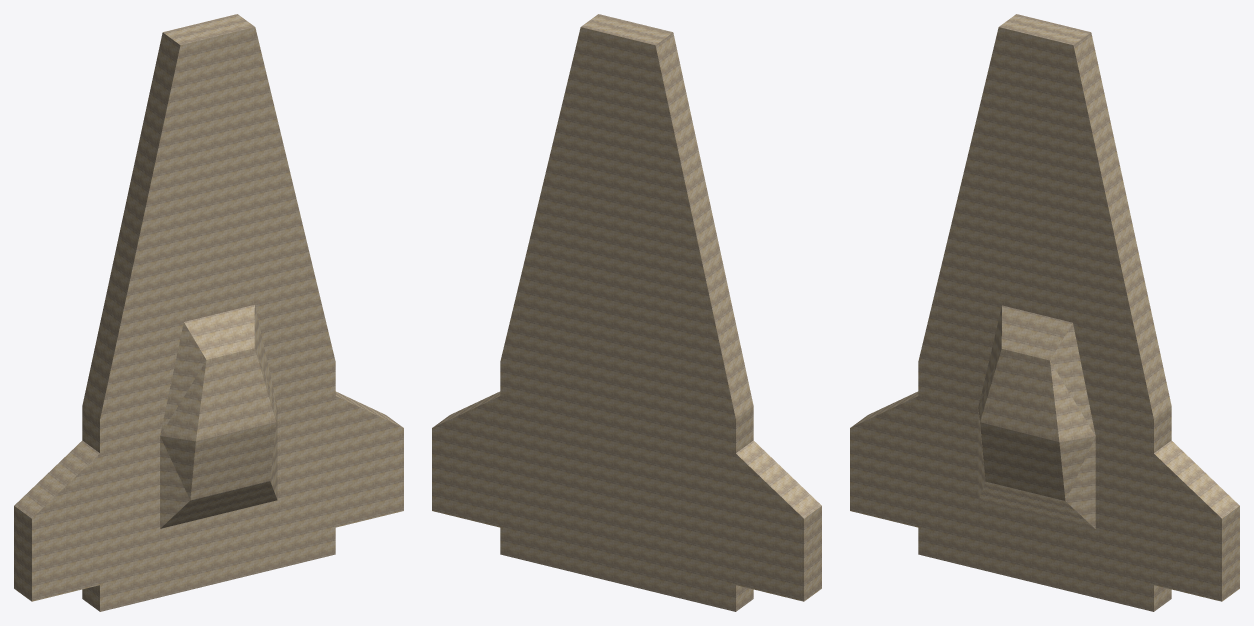
File: ship.fbx
The picture shows the model from 3 angles, left to right: view 1: azimuth 30°, elevation 25°; view 2: azimuth 150°, elevation 25°; view 3: azimuth 330°, elevation 25°; orthographic projection.
Parts seen in each view (by area): view 1: default_object, skpE15F1; view 2: default_object; view 3: default_object, skpE15F1.
Boxes of the visible parts, left/top/right/bottom form: default_object: left=14, top=14, right=403, bottom=611; skpE15F1: left=160, top=305, right=277, bottom=528; default_object: left=432, top=14, right=821, bottom=611; default_object: left=850, top=14, right=1239, bottom=611; skpE15F1: left=978, top=305, right=1095, bottom=529.
Size of the model in its own units: 0.00703 by 0.00989 by 0.00116.
1 material, 1 textured.
